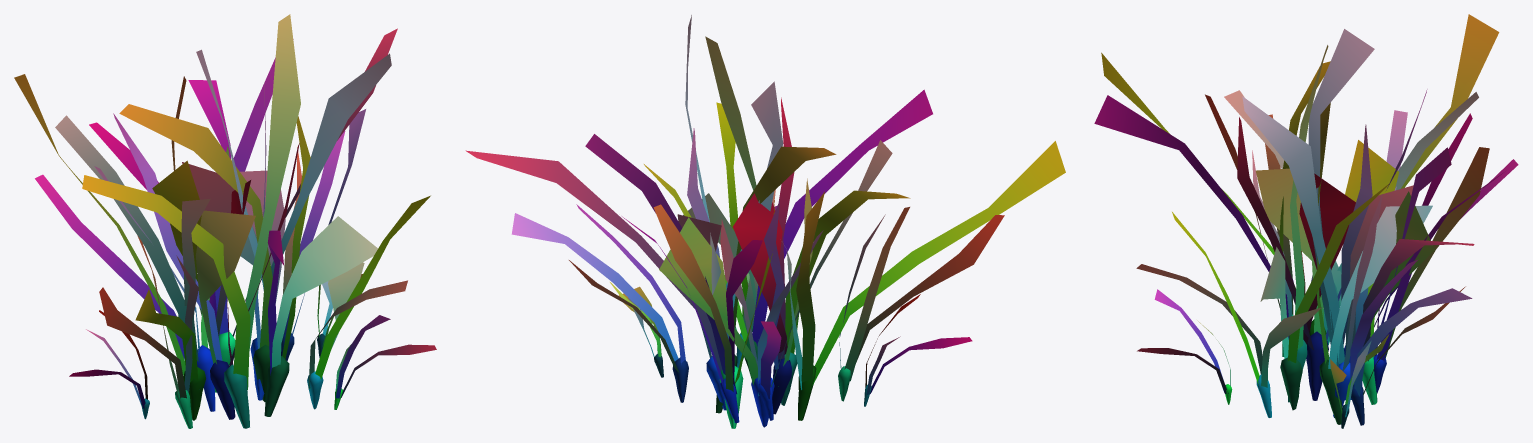
Rendered from Ribbon_Grass_tbdpec3r_High_tbdpec3r_VarE_LOD1.fbx.
3 views of the same model, side by side, from view 1: azimuth 30°, elevation 25°; view 2: azimuth 150°, elevation 25°; view 3: azimuth 270°, elevation 25° (orthographic). The views are drawn at different scales.
Parts seen in each view (by area): view 1: _d012_VarE_LOD2; view 2: _d012_VarE_LOD2; view 3: _d012_VarE_LOD2.
Part boxes in pixels (bbox=[...]): _d012_VarE_LOD2: bbox=[14, 14, 436, 428]; _d012_VarE_LOD2: bbox=[465, 15, 1065, 428]; _d012_VarE_LOD2: bbox=[1094, 14, 1518, 428].
Size of the model in its own units: 35.15 by 29.07 by 28.79.
